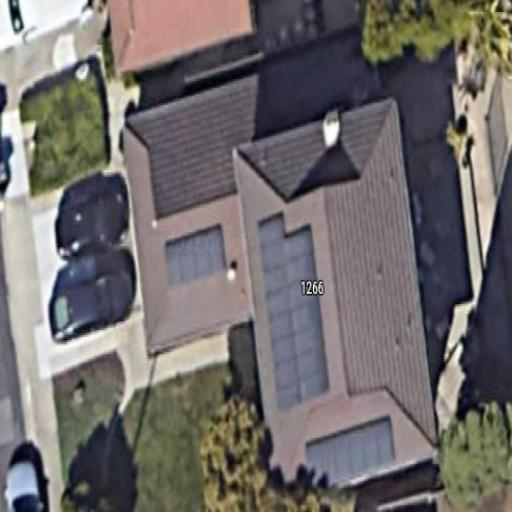Solar-Slope-Roof: (233, 100, 438, 506)
